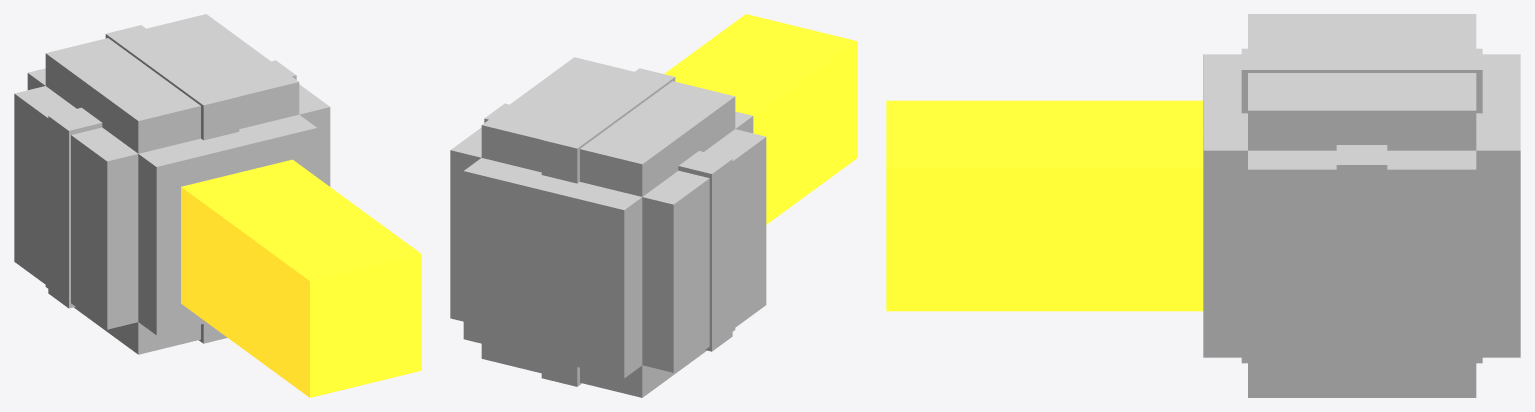
File: FXMeteor.fbx
3 renders of one model, left to right at view 1: azimuth 30°, elevation 25°; view 2: azimuth 150°, elevation 25°; view 3: azimuth 270°, elevation 25°, orthographic. The views are drawn at different scales.
Visible parts, largest first — view 1: FX Meteor_body_6, FX Meteor_body_0, FX Meteor_body_2, FX Meteor_body_1, FX Meteor_body_4, FX Meteor_body_3; view 2: FX Meteor_body_1, FX Meteor_body_0, FX Meteor_body_2, FX Meteor_body_6, FX Meteor_body_4, FX Meteor_body_3; view 3: FX Meteor_body_6, FX Meteor_body_0, FX Meteor_body_2, FX Meteor_body_1, FX Meteor_body_3, FX Meteor_body_4.
Part boxes in pixels (bbox=[...]): FX Meteor_body_6: bbox=[181, 159, 421, 397]; FX Meteor_body_0: bbox=[14, 84, 330, 329]; FX Meteor_body_2: bbox=[45, 14, 299, 354]; FX Meteor_body_1: bbox=[27, 68, 317, 335]; FX Meteor_body_4: bbox=[105, 25, 239, 343]; FX Meteor_body_3: bbox=[48, 60, 296, 308]; FX Meteor_body_1: bbox=[463, 111, 753, 378]; FX Meteor_body_0: bbox=[450, 127, 766, 372]; FX Meteor_body_2: bbox=[481, 57, 735, 397]; FX Meteor_body_6: bbox=[664, 14, 857, 224]; FX Meteor_body_4: bbox=[541, 68, 675, 386]; FX Meteor_body_3: bbox=[484, 103, 732, 351]; FX Meteor_body_6: bbox=[886, 100, 1203, 311]; FX Meteor_body_0: bbox=[1248, 150, 1476, 376]; FX Meteor_body_2: bbox=[1248, 14, 1476, 397]; FX Meteor_body_1: bbox=[1203, 54, 1520, 357]; FX Meteor_body_3: bbox=[1336, 145, 1387, 383]; FX Meteor_body_4: bbox=[1241, 48, 1482, 363].
Size of the model in its own units: 163 by 163 by 320.
